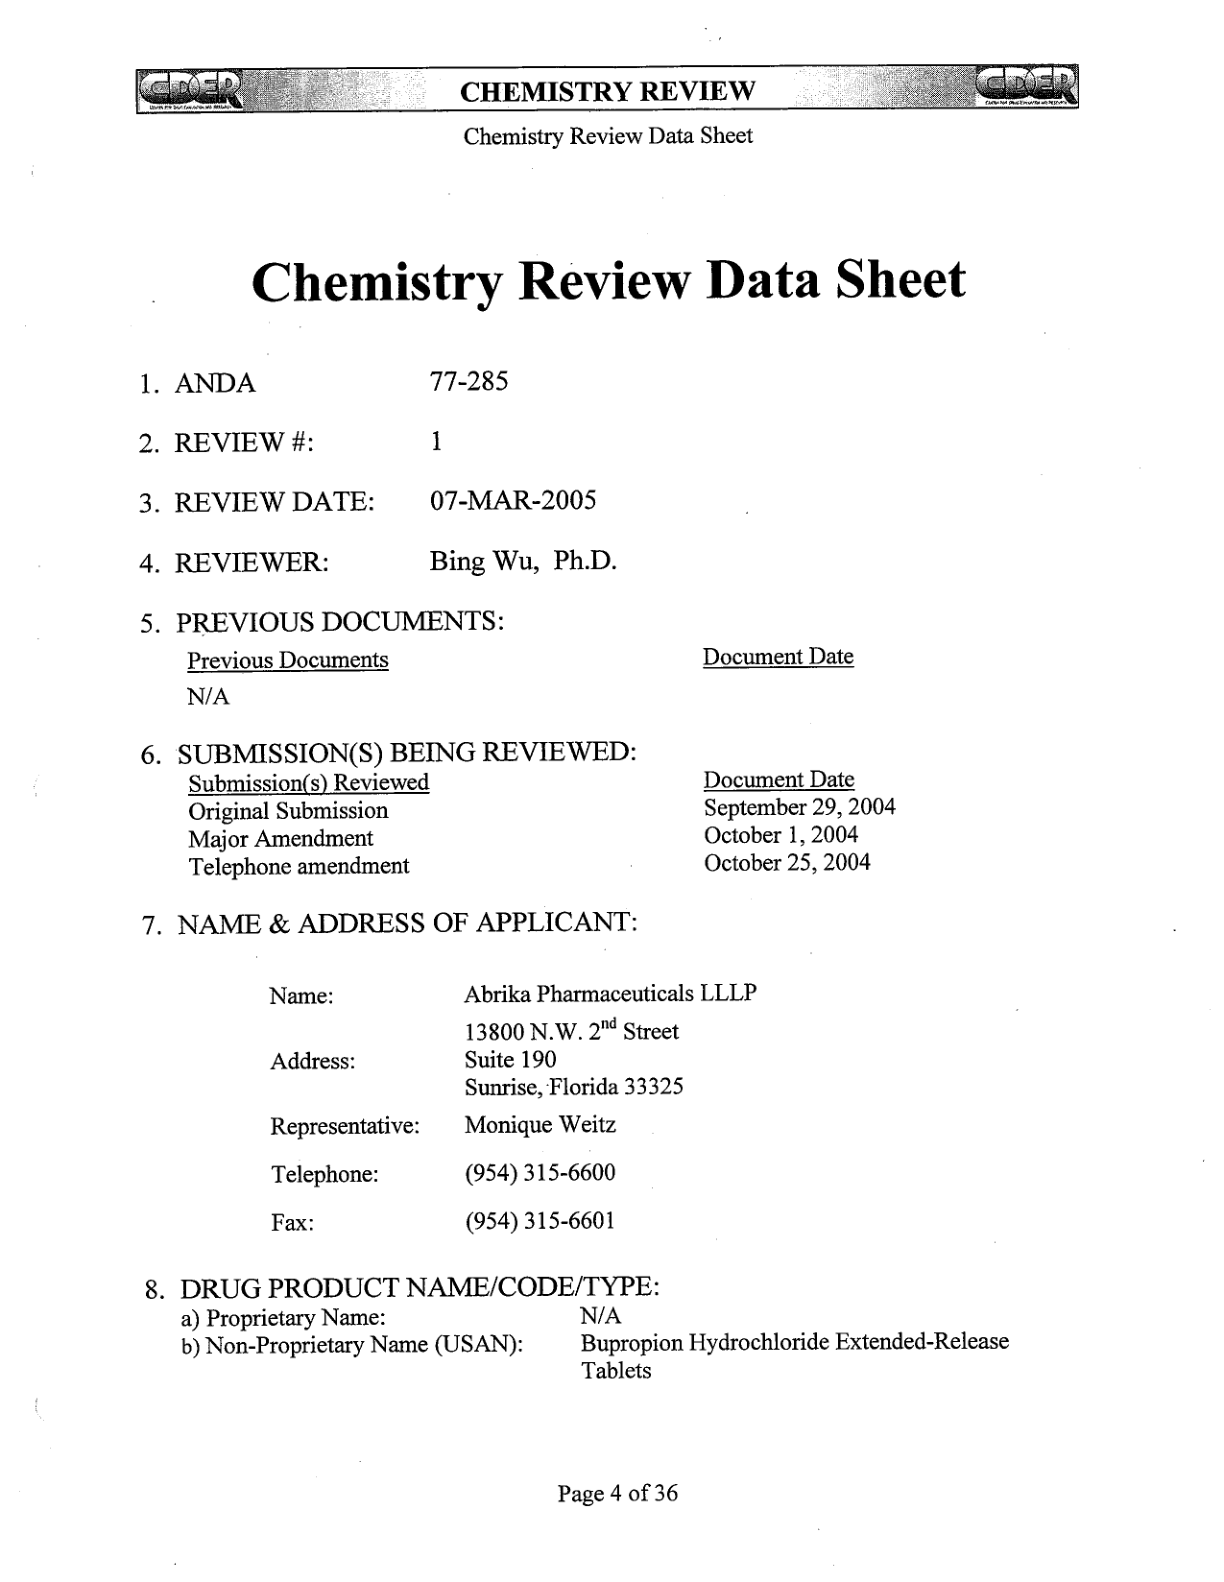nolines: (262, 977, 767, 1238), (130, 354, 634, 580), (182, 770, 905, 881), (176, 1306, 1015, 1388), (182, 648, 862, 715)
